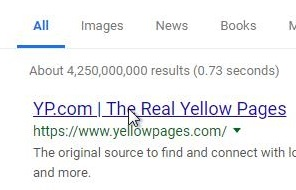cursor: (126, 107, 141, 128)
